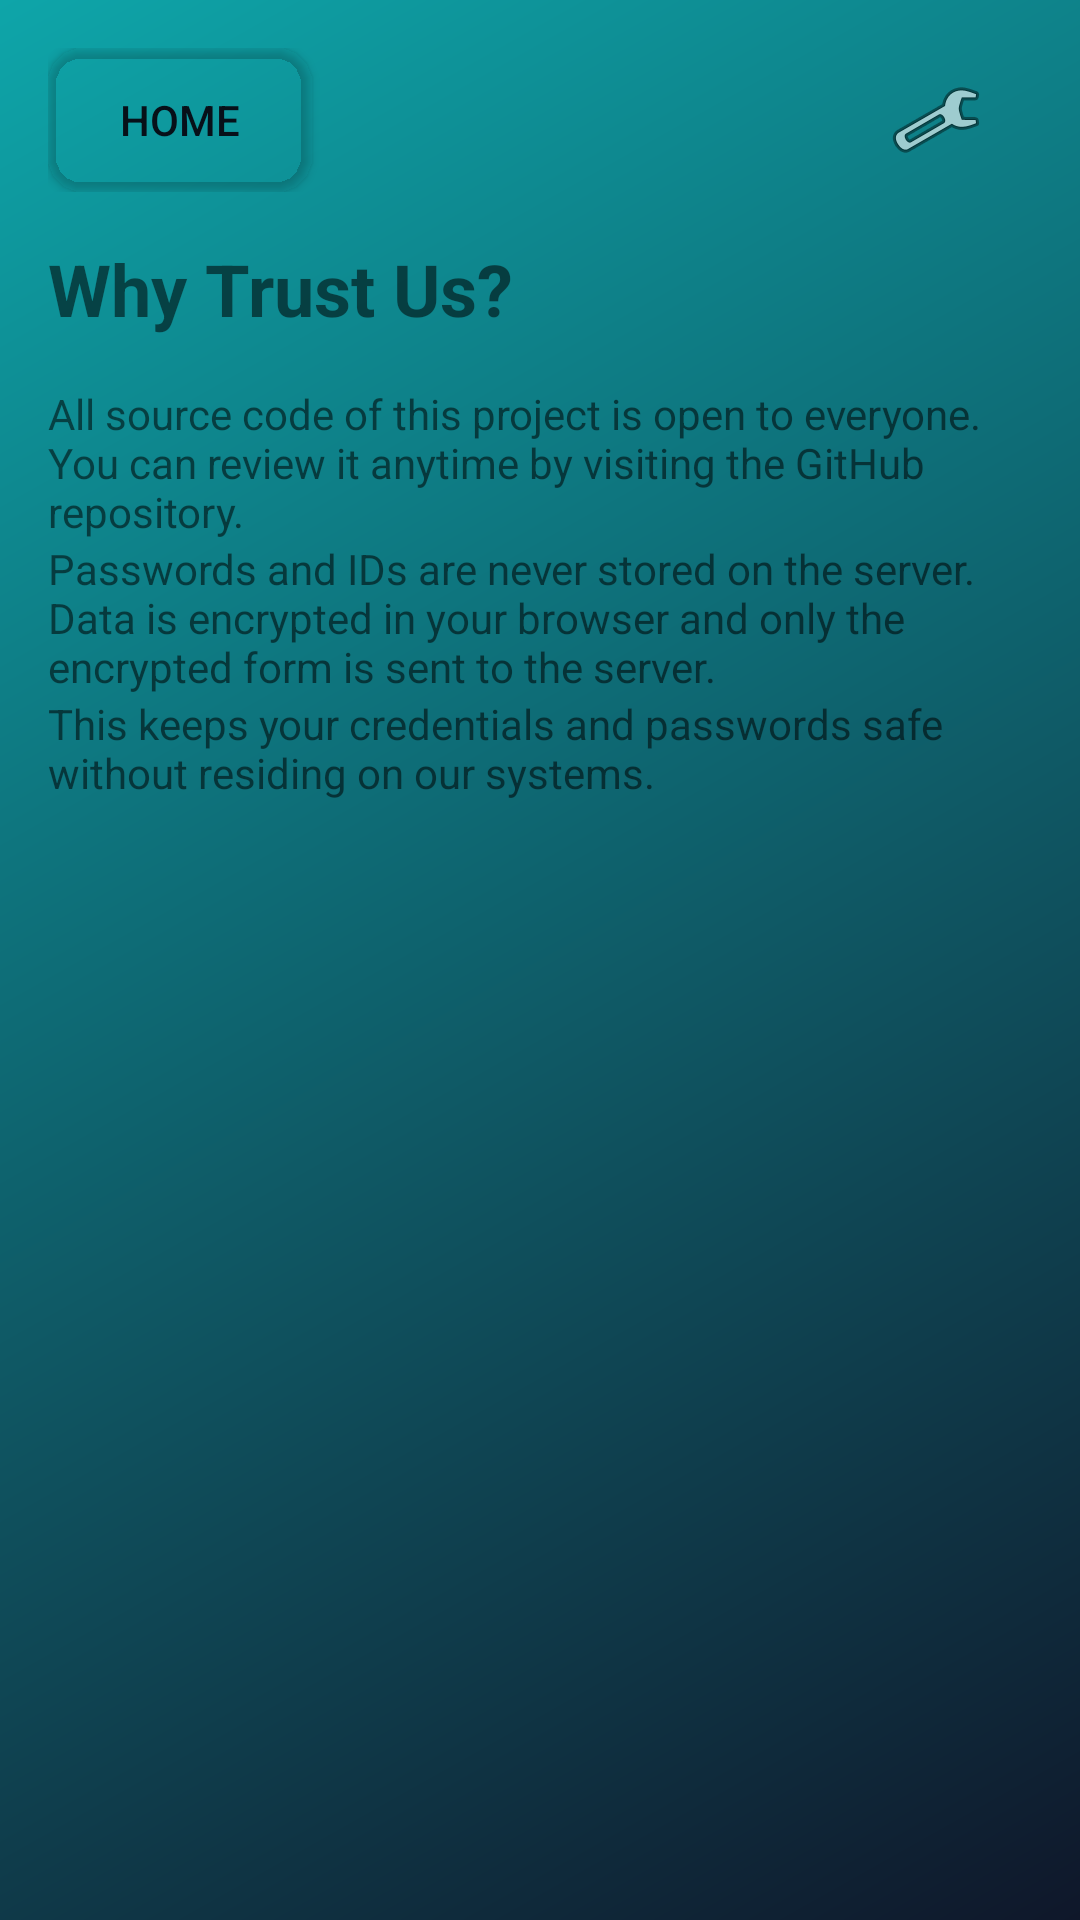

Icon bounding boxes for this 1080px×1920px phone screenshot, format (x1, y1, x2, y2):
Settings: (893, 87, 979, 153)
